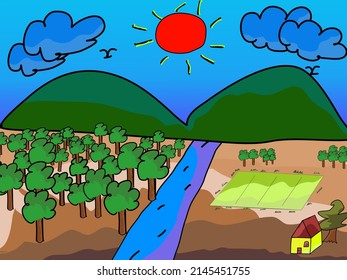cloud: (21, 11, 107, 62), (235, 2, 313, 55), (279, 17, 347, 65)
sun: (129, 1, 228, 77)
